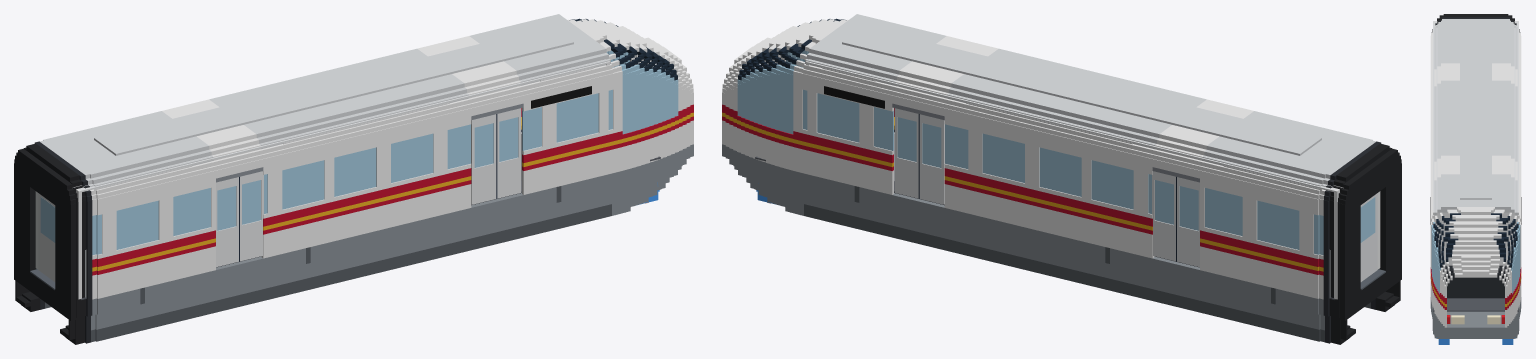
The model's file is changsha_front.obj.
3 renders of one model, left to right at view 1: azimuth 30°, elevation 25°; view 2: azimuth 150°, elevation 25°; view 3: azimuth 270°, elevation 25°, orthographic. The views are drawn at different scales.
Parts seen in each view (by area): view 1: SHELL, SHELL_roof, SHELL_diaphragm, EXTERNAL_DOOR_9_CG_DR2_TOGGLE_TL_-0.59_X, SHELL_ceiling, EXTERNAL_DOOR_10_CG_DR2_TOGGLE_TL_0.59_X, EXTERNAL_DOOR_3_CG_DR1_TOGGLE_TL_-0.59_X, EXTERNAL_DOOR_4_CG_DR1_TOGGLE_TL_0.59_X, CONNECTING_DOOR_1_CG_CR_TOGGLE_TL_0.98_Z, SHELL_end, SHELL_ad, SHELL_sign; view 2: SHELL, SHELL_roof, SHELL_diaphragm, EXTERNAL_DOOR_12_CG_DL2_TOGGLE_TL_-0.59_X, SHELL_ceiling, EXTERNAL_DOOR_13_CG_DL2_TOGGLE_TL_0.59_X, EXTERNAL_DOOR_6_CG_DL1_TOGGLE_TL_-0.59_X, EXTERNAL_DOOR_7_CG_DL1_TOGGLE_TL_0.59_X, CONNECTING_DOOR_1_CG_CR_TOGGLE_TL_0.98_Z, SHELL_end, SHELL_ad, SHELL_sign; view 3: SHELL, SHELL_roof, SHELL_ceiling, SHELL_desk, SHELL_floor, SHELL_cabwall, HEADLIGHT_1, BOGEY_FRONT.
Boxes of the visible parts, x1,y1,x2,y2 form: SHELL: (21,14,693,344); SHELL_roof: (94,26,573,155); SHELL_diaphragm: (14,148,76,339); EXTERNAL_DOOR_9_CG_DR2_TOGGLE_TL_-0.59_X: (471,114,497,204); SHELL_ceiling: (23,60,606,192); EXTERNAL_DOOR_10_CG_DR2_TOGGLE_TL_0.59_X: (497,108,521,198); EXTERNAL_DOOR_3_CG_DR1_TOGGLE_TL_-0.59_X: (216,177,239,267); EXTERNAL_DOOR_4_CG_DR1_TOGGLE_TL_0.59_X: (240,171,263,261); CONNECTING_DOOR_1_CG_CR_TOGGLE_TL_0.98_Z: (38,193,55,281); SHELL_end: (21,148,81,299); SHELL_ad: (94,67,593,190); SHELL_sign: (531,86,591,108); SHELL: (722,14,1394,344); SHELL_roof: (842,26,1321,155); SHELL_diaphragm: (1339,148,1401,339); EXTERNAL_DOOR_12_CG_DL2_TOGGLE_TL_-0.59_X: (918,114,944,204); SHELL_ceiling: (809,60,1392,192); EXTERNAL_DOOR_13_CG_DL2_TOGGLE_TL_0.59_X: (894,108,918,198); EXTERNAL_DOOR_6_CG_DL1_TOGGLE_TL_-0.59_X: (1176,177,1199,267); EXTERNAL_DOOR_7_CG_DL1_TOGGLE_TL_0.59_X: (1152,171,1175,261); CONNECTING_DOOR_1_CG_CR_TOGGLE_TL_0.98_Z: (1360,193,1377,281); SHELL_end: (1334,148,1394,299); SHELL_ad: (822,67,1321,190); SHELL_sign: (824,86,884,108); SHELL: (1430,14,1521,338); SHELL_roof: (1460,33,1491,199); SHELL_ceiling: (1433,21,1518,211); SHELL_desk: (1442,265,1509,298); SHELL_floor: (1433,298,1518,311); SHELL_cabwall: (1433,211,1518,265); HEADLIGHT_1: (1451,315,1500,324); BOGEY_FRONT: (1436,337,1515,344).
Bounding box in the file's own units: 16.66 × 4.17 × 2.82.
Materials: 1 (1 with a texture image).
